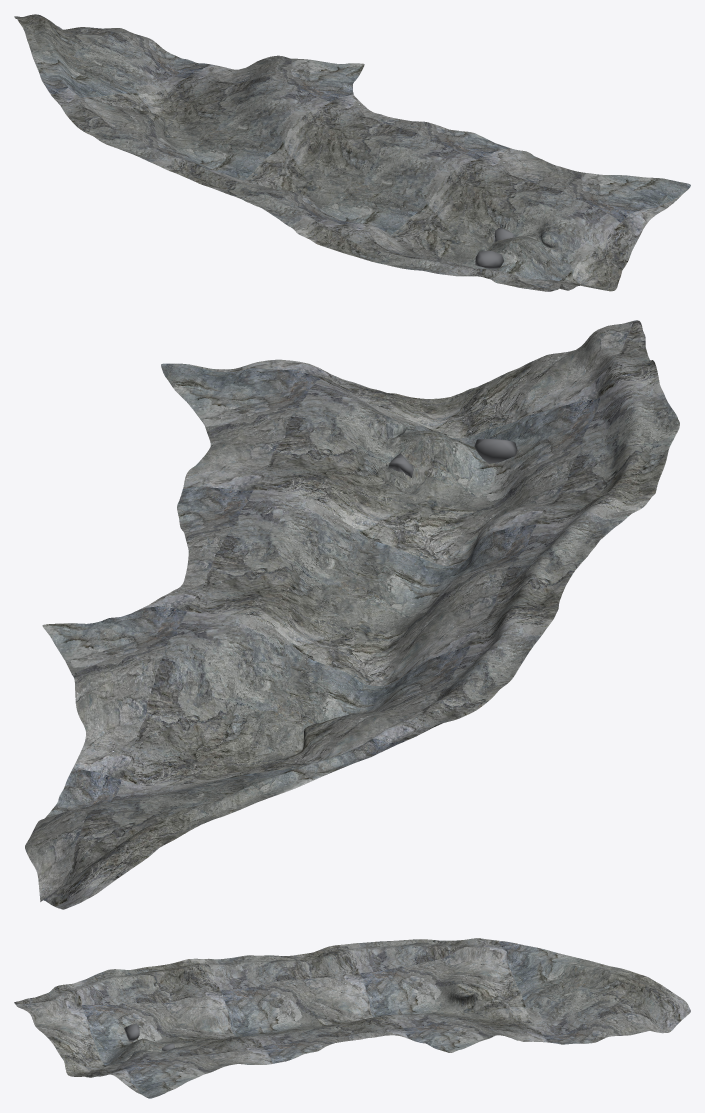
File: land.glb
The picture shows the model from 3 angles, top to bottom: view 1: azimuth 30°, elevation 25°; view 2: azimuth 150°, elevation 25°; view 3: azimuth 270°, elevation 25°; orthographic projection. The views are drawn at different scales.
Parts seen in each view (by area): view 1: Cube; view 2: Cube; view 3: Cube.
Boxes of the visible parts, box(x1,y1,x2,y2) form: Cube: box(14, 14, 690, 291); Cube: box(25, 320, 679, 909); Cube: box(14, 938, 690, 1098).
Size of the model in its own units: 31.36 by 4.49 by 60.21.
1 material, 1 textured.
